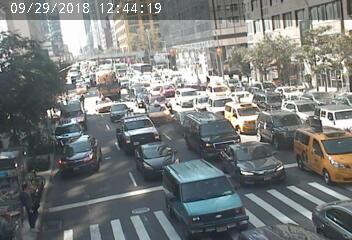car: (296, 127, 352, 181), (173, 164, 232, 211), (188, 117, 233, 151), (229, 149, 272, 178), (65, 138, 102, 167), (230, 94, 259, 128), (120, 115, 153, 142), (265, 113, 294, 139), (137, 140, 166, 162), (323, 104, 352, 126), (97, 70, 120, 93), (205, 98, 235, 113), (149, 100, 175, 117), (65, 98, 89, 115), (176, 86, 199, 103), (57, 122, 81, 137), (290, 98, 313, 113), (253, 80, 273, 95), (262, 90, 280, 104), (208, 80, 229, 92), (131, 93, 150, 105), (111, 103, 124, 117), (96, 95, 111, 107), (131, 61, 150, 70), (163, 86, 181, 95)
